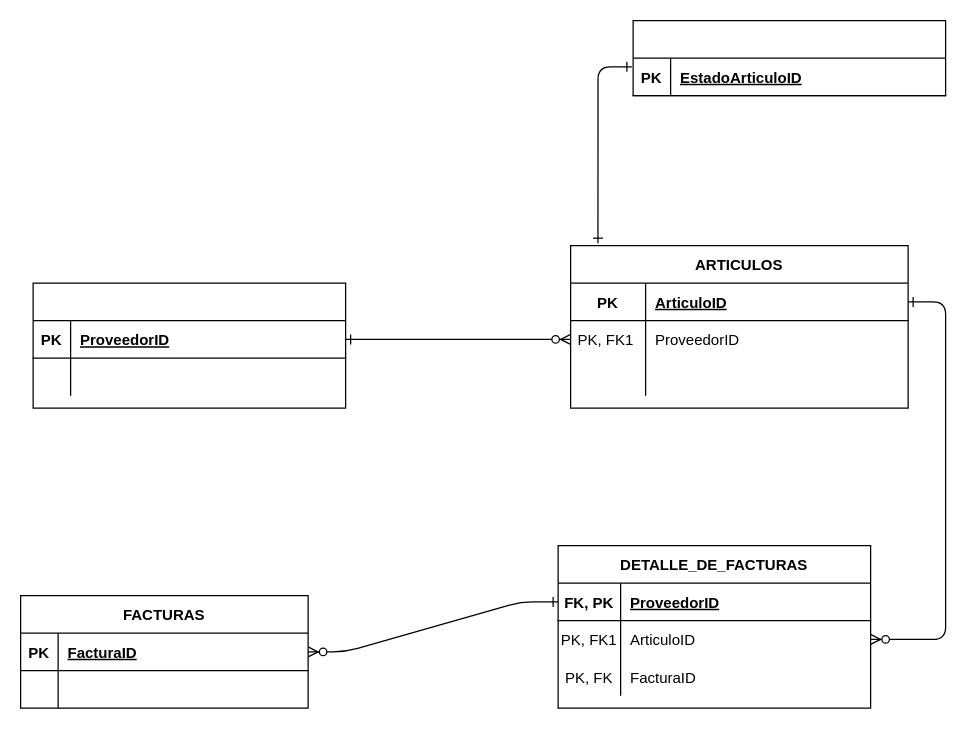
Some shapes in this 966 by 729 pixel diagram are drawn without their labels. The box of each missing label's shape, as (x1, y1, x2, y2) in pixels:
ESTADOS_ARTICULOS: (632, 19, 946, 96)
PROVEEDORES: (32, 282, 346, 408)
